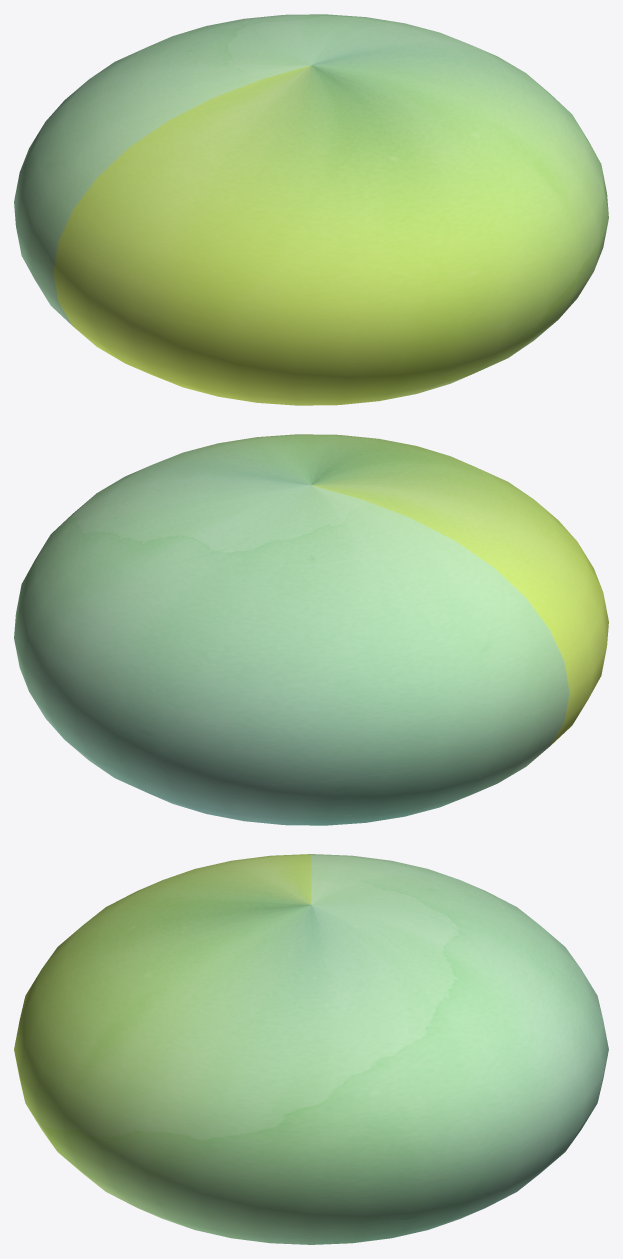
File: ball_frame4.obj
3 views of the same model, one above another, from view 1: azimuth 30°, elevation 25°; view 2: azimuth 150°, elevation 25°; view 3: azimuth 270°, elevation 25° (orthographic).
Parts seen in each view (by area): view 1: Sphere; view 2: Sphere; view 3: Sphere.
Part boxes in pixels (bbox=[...]): Sphere: bbox=[14, 14, 608, 405]; Sphere: bbox=[14, 434, 608, 825]; Sphere: bbox=[14, 854, 608, 1244].
Size of the model in its own units: 2 by 1.07 by 2.
